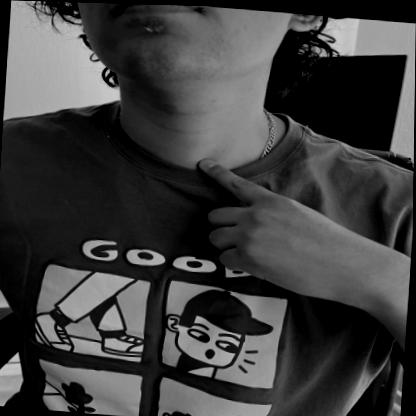Q: (173, 126, 399, 321)
